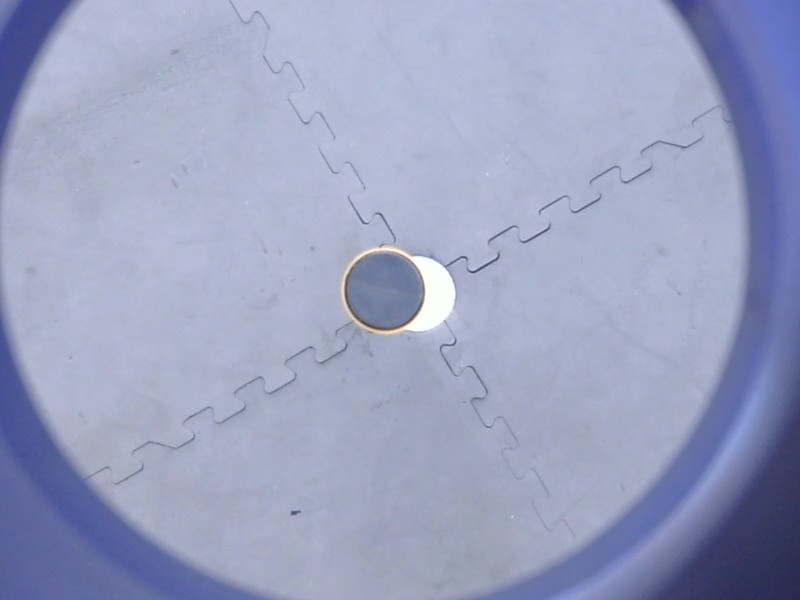tip: (336, 240, 433, 341)
